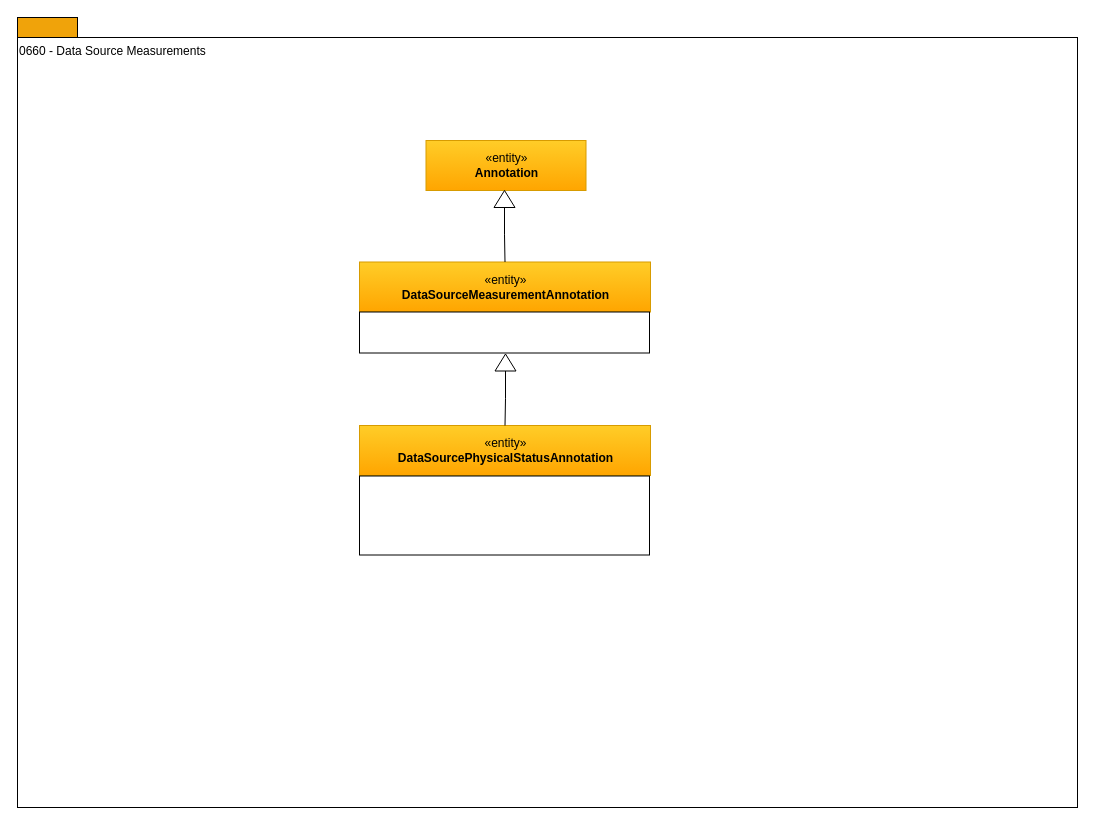
Image size: 1095x825. Some labels were removed from this diagram. Here are the shapes that lost their labels. From the top down, the centre of each, then its label:
At point (504, 332): "dataSourceProperties : map<string, string>".
At point (504, 515): "sourceCreateTime : date sourceUpdateTime : date size : int encoding : string".
